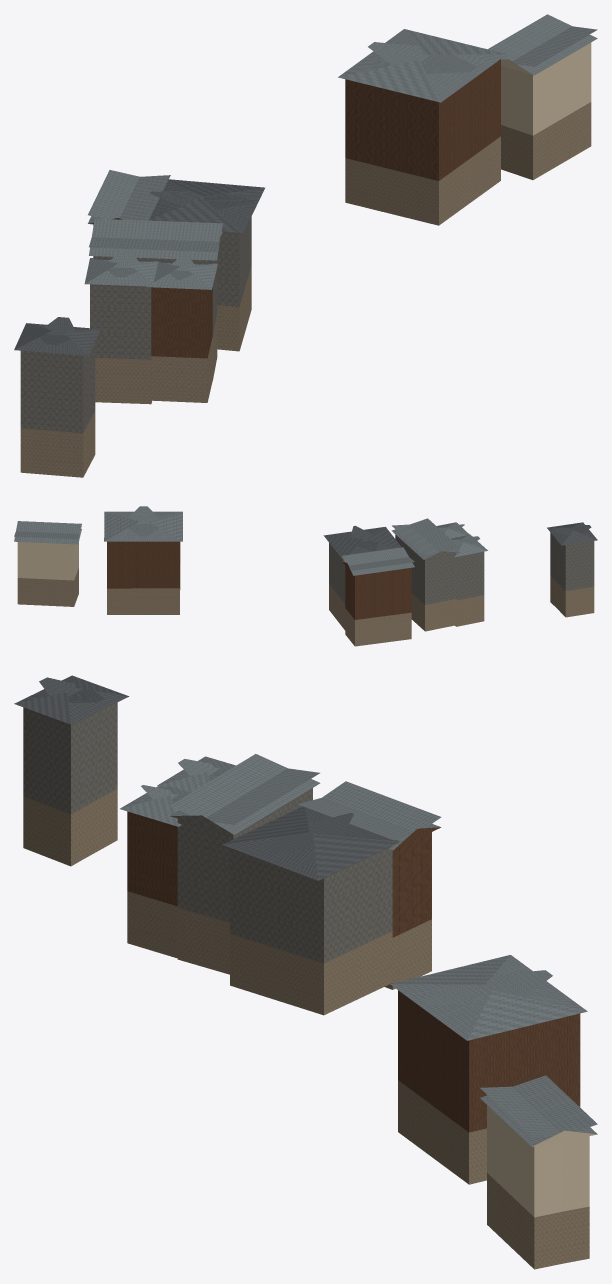
File: bld_c10_18_435.gltf
The picture shows the model from 3 angles, top to bottom: view 1: azimuth 30°, elevation 25°; view 2: azimuth 150°, elevation 25°; view 3: azimuth 270°, elevation 25°; orthographic projection. The views are drawn at different scales.
Visible parts, largest first — view 1: bld_c10_18_435; view 2: bld_c10_18_435; view 3: bld_c10_18_435.
Part boxes in pixels (x1,y1,x2,y2): bld_c10_18_435: [14, 14, 597, 477]; bld_c10_18_435: [14, 506, 597, 646]; bld_c10_18_435: [14, 675, 597, 1269].
Size of the model in its own units: 93.46 by 17.1 by 51.83.
9 materials, 9 textured.
